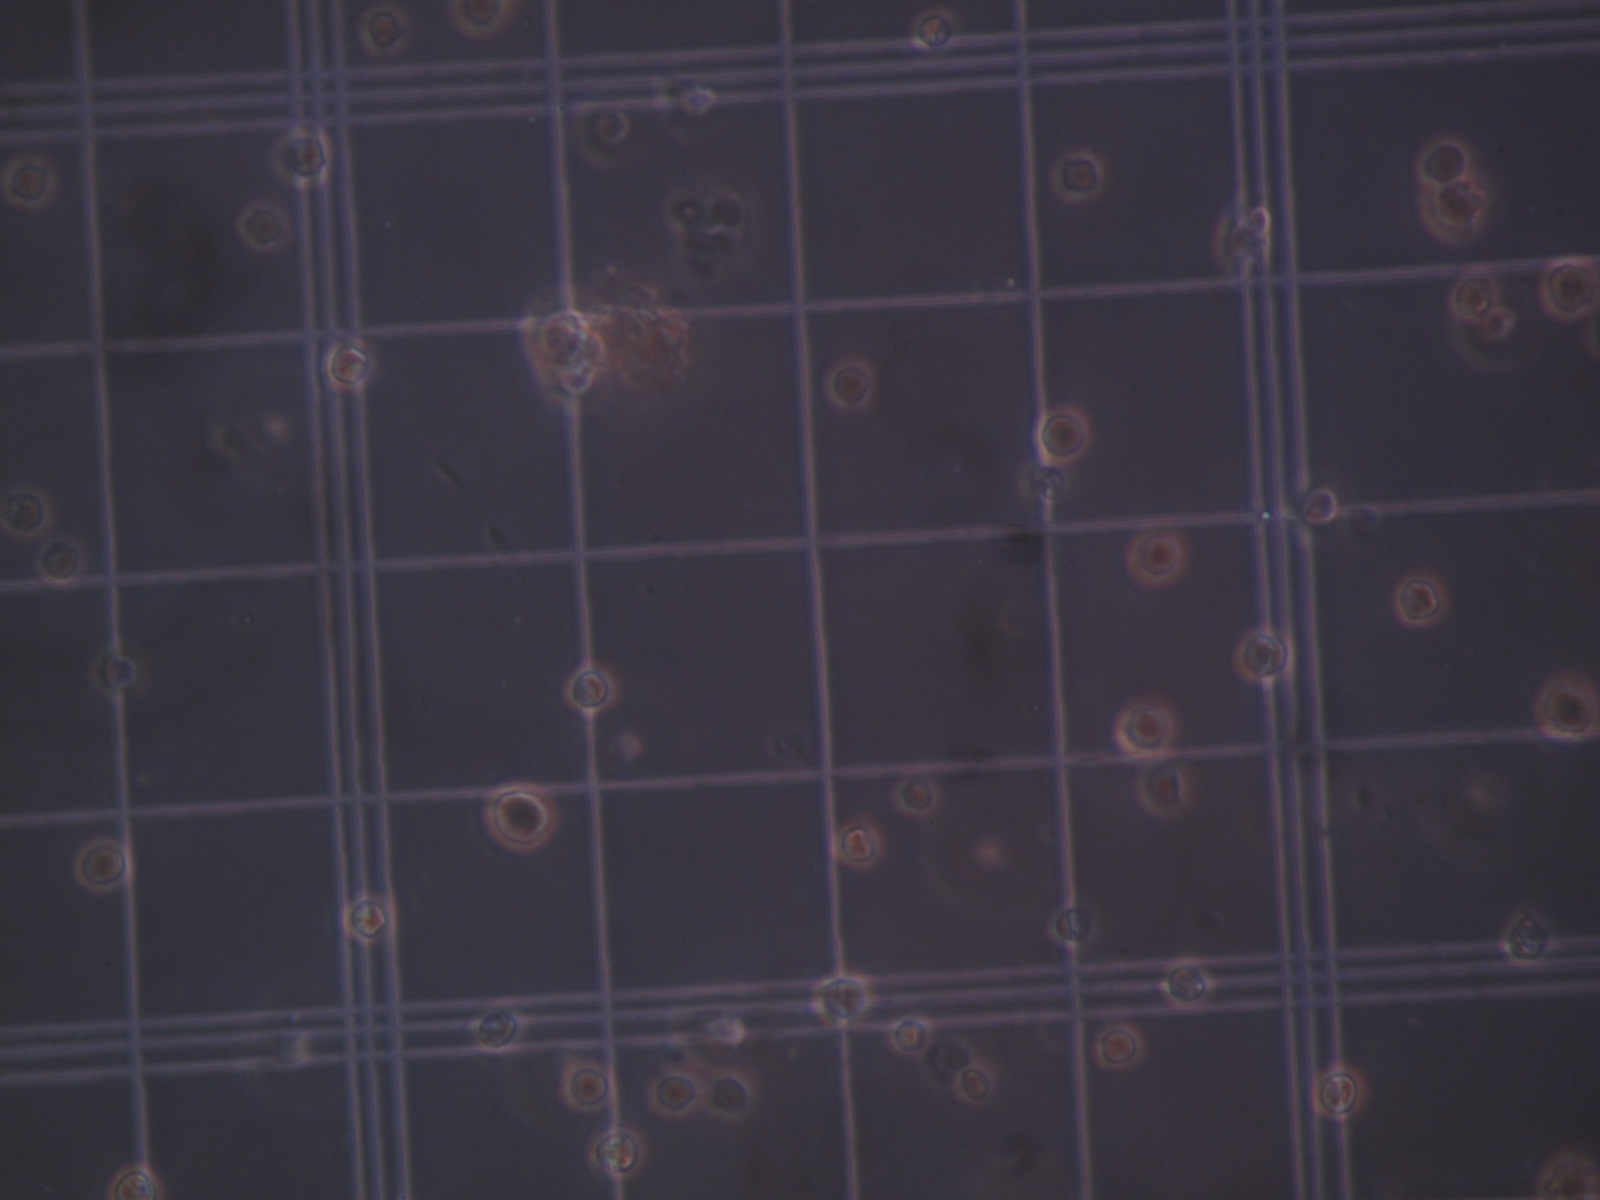hemo: (479, 782, 557, 855), (665, 995, 750, 1058), (568, 98, 640, 170), (523, 297, 591, 369), (654, 73, 721, 141), (1534, 673, 1597, 741), (1538, 255, 1600, 324), (1421, 180, 1488, 241), (1231, 625, 1293, 688), (72, 831, 134, 894), (1114, 701, 1175, 763), (1128, 524, 1186, 590), (1214, 213, 1272, 279), (1498, 903, 1553, 971), (272, 129, 333, 188), (1036, 403, 1091, 465), (233, 200, 296, 255), (1311, 1063, 1369, 1121), (1446, 262, 1506, 319), (1133, 763, 1189, 822), (538, 361, 598, 416), (1534, 1151, 1600, 1200), (1159, 955, 1216, 1012), (1417, 137, 1480, 188), (1392, 572, 1450, 626), (1, 155, 59, 209), (562, 662, 617, 717), (559, 1058, 616, 1112), (813, 972, 872, 1024), (1, 482, 53, 541), (590, 1127, 646, 1180), (1049, 147, 1105, 200), (87, 645, 137, 702), (831, 818, 886, 870), (824, 355, 876, 408), (328, 334, 375, 389), (706, 1066, 752, 1123), (910, 4, 960, 54), (357, 3, 406, 53), (648, 1070, 699, 1118), (37, 536, 84, 587), (343, 894, 389, 945), (1094, 1024, 1146, 1069), (443, 1, 511, 37), (472, 1008, 524, 1054), (1044, 903, 1099, 945), (106, 1162, 161, 1200), (1296, 482, 1342, 526), (893, 774, 939, 816), (887, 1013, 932, 1055), (952, 1061, 995, 1103), (1484, 306, 1516, 345)
